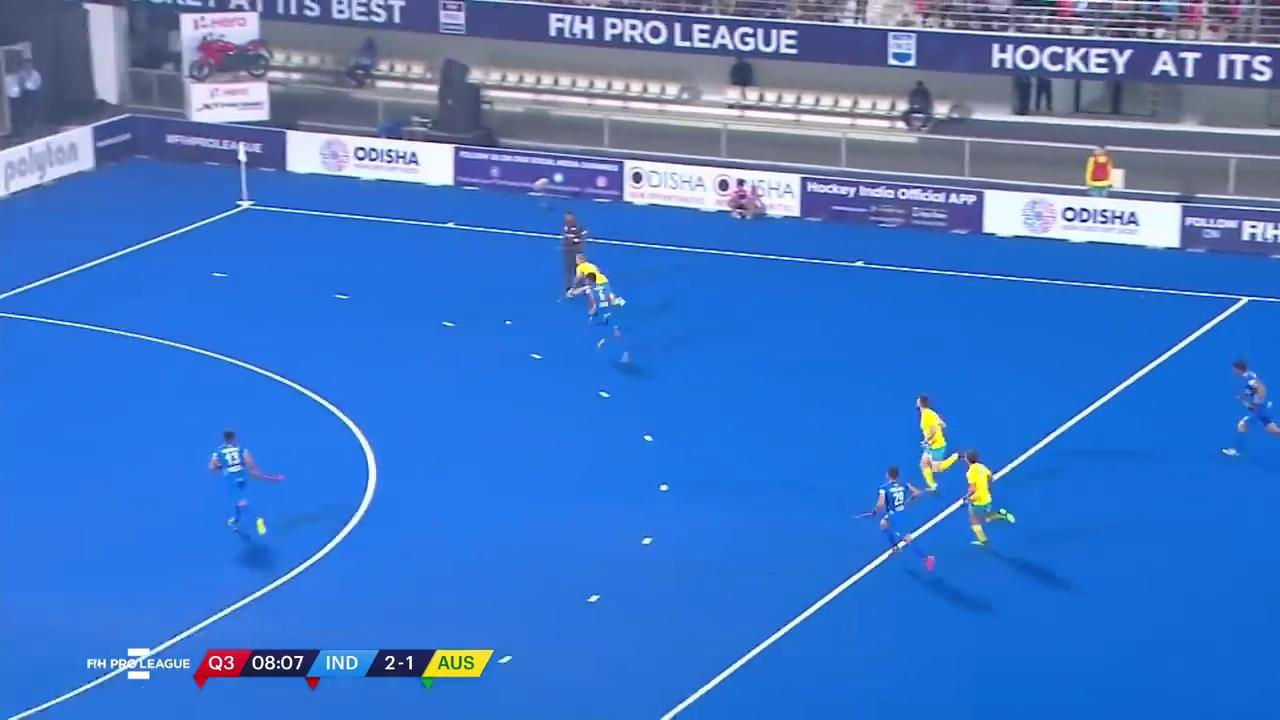ball: (502, 318, 516, 328)
